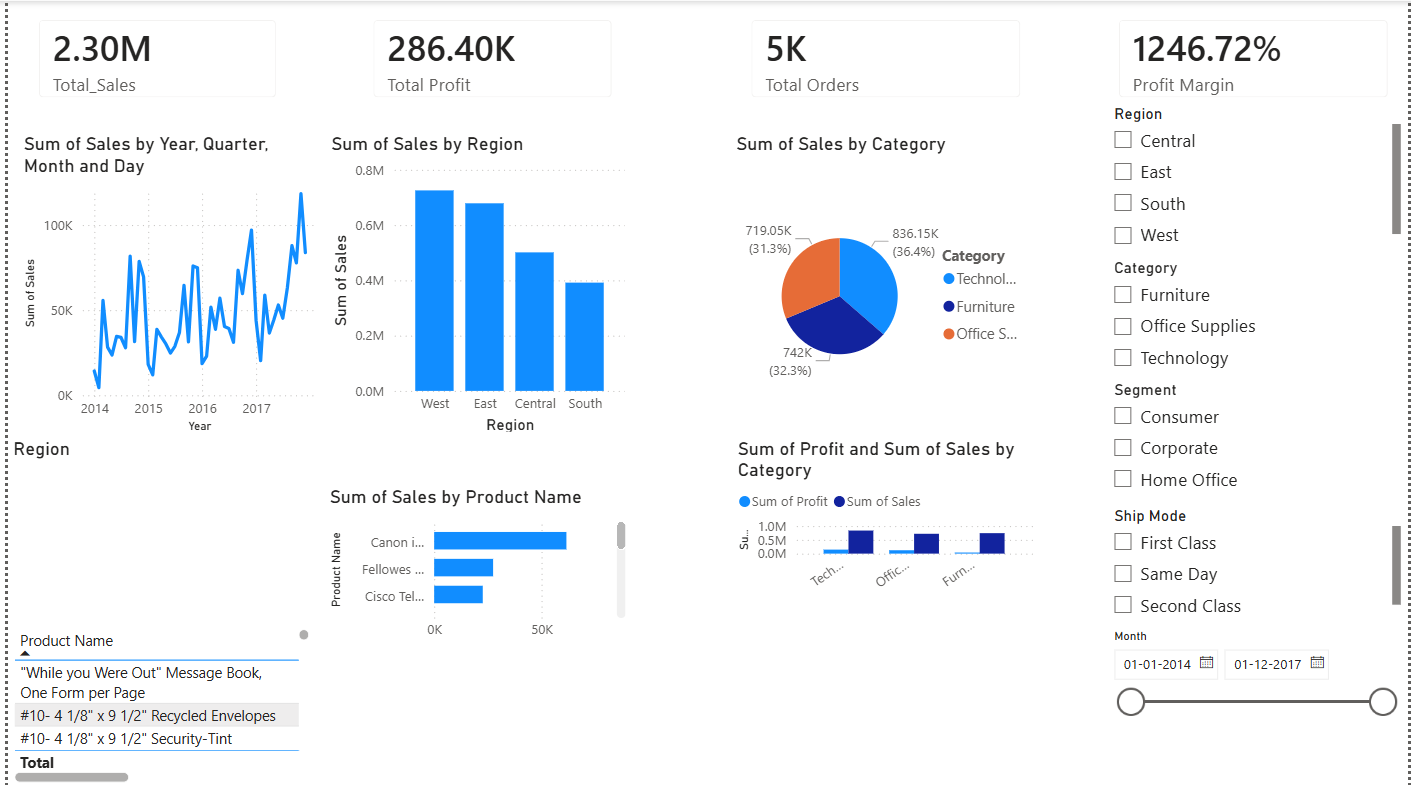

This screenshot's page, from the dashboard's own definition file:
{"tool":"powerbi","page":{"name":"Page 1","canvas":[1280,720],"ordinal":0},"visuals":[{"type":"cardVisual","fields":{"Data":["Superstore_Final.Total_Sales"]},"box":[10.6,0,251.4,106],"z":0},{"type":"cardVisual","fields":{"Data":["Superstore_Final.Total Profit"]},"box":[316.5,0,252.9,106],"z":1000},{"type":"cardVisual","fields":{"Data":["Superstore_Final.Total Orders"]},"box":[663.2,0,280.1,106],"z":2000},{"type":"cardVisual","fields":{"Data":["Superstore_Final.Profit Margin"]},"box":[999.4,0,280.1,106],"z":3000},{"type":"lineChart","fields":{"Y":["Sum(Superstore_Final.Sales)"],"Category":["Superstore_Final.Month.Variation.Date Hierarchy.Year","Superstore_Final.Month.Variation.Date Hierarchy.Quarter","Superstore_Final.Month.Variation.Date Hierarchy.Month","Superstore_Final.Month.Variation.Date Hierarchy.Day"]},"box":[9.1,121.1,280.1,278.6],"z":4000},{"type":"clusteredColumnChart","fields":{"Category":["Superstore_Final.Region"]},"box":[0,399.8,280.1,149.9],"z":5000},{"type":"clusteredColumnChart","fields":{"Y":["Sum(Superstore_Final.Sales)"],"Category":["Superstore_Final.Region"]},"box":[290.7,121.1,278.6,278.6],"z":6000},{"type":"clusteredBarChart","fields":{"Category":["Superstore_Final.Product Name"],"Y":["Sum(Superstore_Final.Sales)"]},"box":[289.2,443.7,280.1,149.9],"z":7000},{"type":"pieChart","fields":{"Category":["Superstore_Final.Category"],"Y":["Sum(Superstore_Final.Sales)"]},"box":[661.7,121.1,280.1,278.6],"z":8000},{"type":"clusteredColumnChart","fields":{"Category":["Superstore_Final.Category"],"Y":["Sum(Superstore_Final.Profit)","Sum(Superstore_Final.Sales)"]},"box":[663.2,399.8,280.1,149.9],"z":9000},{"type":"slicer","fields":{"Values":["Superstore_Final.Region"]},"box":[999.4,89.3,280.1,140.8],"z":10000},{"type":"slicer","fields":{"Values":["Superstore_Final.Category"]},"box":[999.4,230.2,280.1,149.9],"z":11000},{"type":"slicer","fields":{"Values":["Superstore_Final.Segment"]},"box":[999.4,342.2,249.8,115.1],"z":11001},{"type":"slicer","fields":{"Values":["Superstore_Final.Ship Mode"]},"box":[999.4,457.3,280.1,119.6],"z":11002},{"type":"slicer","fields":{"Values":["Superstore_Final.Month"]},"box":[999.4,569.3,280.1,149.9],"z":11003},{"type":"tableEx","fields":{"Values":["Superstore_Final.Product Name","Superstore_Final.Category","Sum(Superstore_Final.Sales)","Sum(Superstore_Final.Profit)","Sum(Superstore_Final.Quantity)"]},"box":[0,569,280,150],"z":11004}]}

Visuals, with their boxes in screenshot pixels (x1, y1, x2, y2), scaled from the page's 1280x720 canvas onto the 1411x787 screenshot:
cardVisual - Superstore_Final.Total_Sales: (left=12, top=0, right=289, bottom=116)
cardVisual - Superstore_Final.Total Profit: (left=349, top=0, right=628, bottom=116)
cardVisual - Superstore_Final.Total Orders: (left=731, top=0, right=1040, bottom=116)
cardVisual - Superstore_Final.Profit Margin: (left=1102, top=0, right=1410, bottom=116)
lineChart - Sum(Superstore_Final.Sales) x Superstore_Final.Month.Variation.Date Hierarchy.Year: (left=10, top=132, right=319, bottom=437)
clusteredColumnChart - Superstore_Final.Region: (left=0, top=437, right=309, bottom=601)
clusteredColumnChart - Sum(Superstore_Final.Sales) x Superstore_Final.Region: (left=320, top=132, right=628, bottom=437)
clusteredBarChart - Superstore_Final.Product Name x Sum(Superstore_Final.Sales): (left=319, top=485, right=628, bottom=649)
pieChart - Superstore_Final.Category x Sum(Superstore_Final.Sales): (left=729, top=132, right=1038, bottom=437)
clusteredColumnChart - Superstore_Final.Category x Sum(Superstore_Final.Profit): (left=731, top=437, right=1040, bottom=601)
slicer - Superstore_Final.Region: (left=1102, top=98, right=1410, bottom=252)
slicer - Superstore_Final.Category: (left=1102, top=252, right=1410, bottom=415)
slicer - Superstore_Final.Segment: (left=1102, top=374, right=1377, bottom=500)
slicer - Superstore_Final.Ship Mode: (left=1102, top=500, right=1410, bottom=631)
slicer - Superstore_Final.Month: (left=1102, top=622, right=1410, bottom=786)
tableEx - Superstore_Final.Product Name x Superstore_Final.Category: (left=0, top=622, right=309, bottom=786)
